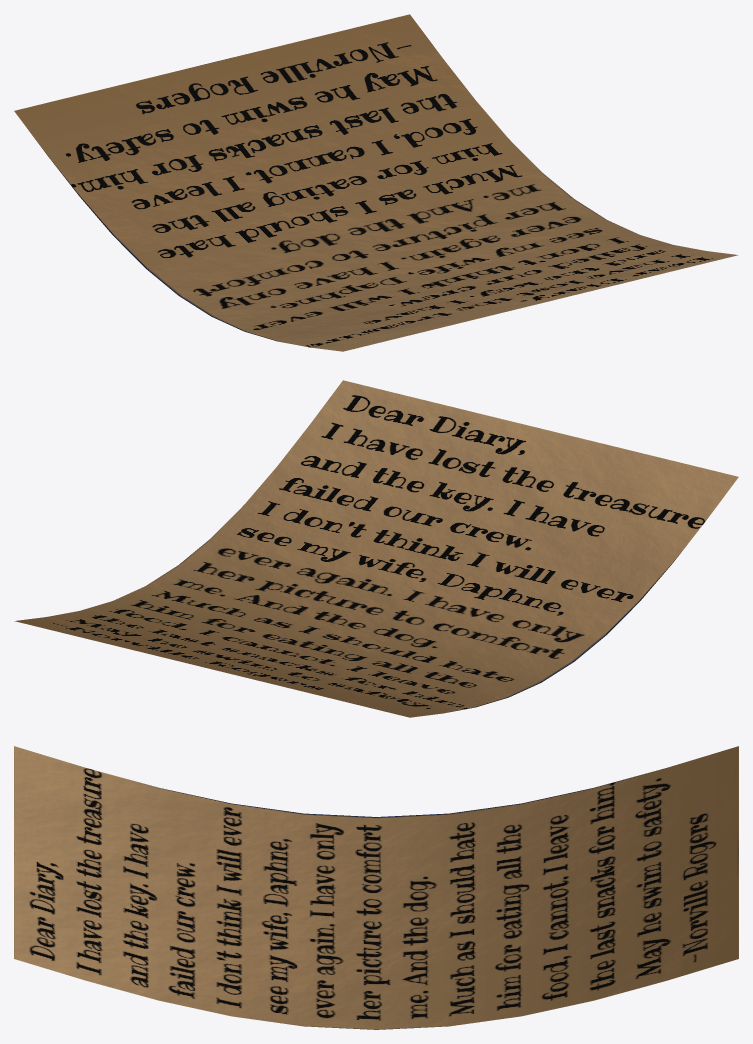
The model's file is clue4.fbx.
3 views of the same model, one above another, from view 1: azimuth 30°, elevation 25°; view 2: azimuth 150°, elevation 25°; view 3: azimuth 270°, elevation 25° (orthographic). The views are drawn at different scales.
Parts seen in each view (by area): view 1: DiaryPage3; view 2: DiaryPage3; view 3: DiaryPage3.
Part boxes in pixels (bbox=[...]): DiaryPage3: bbox=[14, 14, 738, 351]; DiaryPage3: bbox=[14, 380, 738, 717]; DiaryPage3: bbox=[14, 746, 738, 1029].
Bounding box in the file's own units: 0.6949 × 0.1081 × 1.
